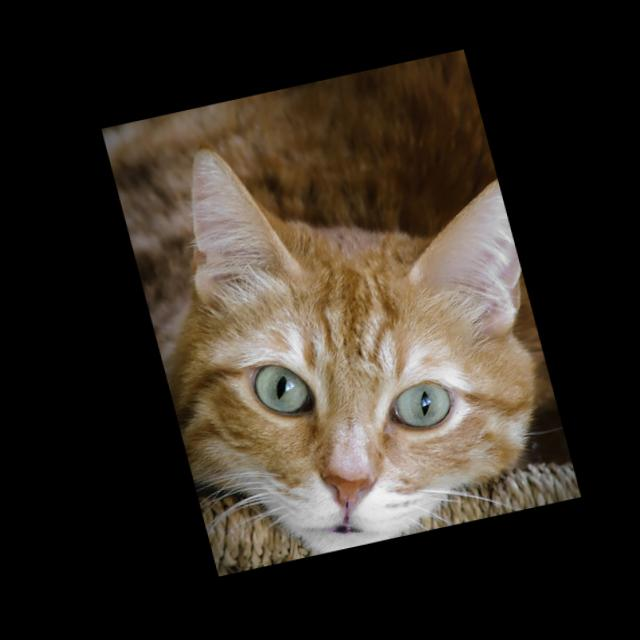animals: (156, 91, 567, 529)
